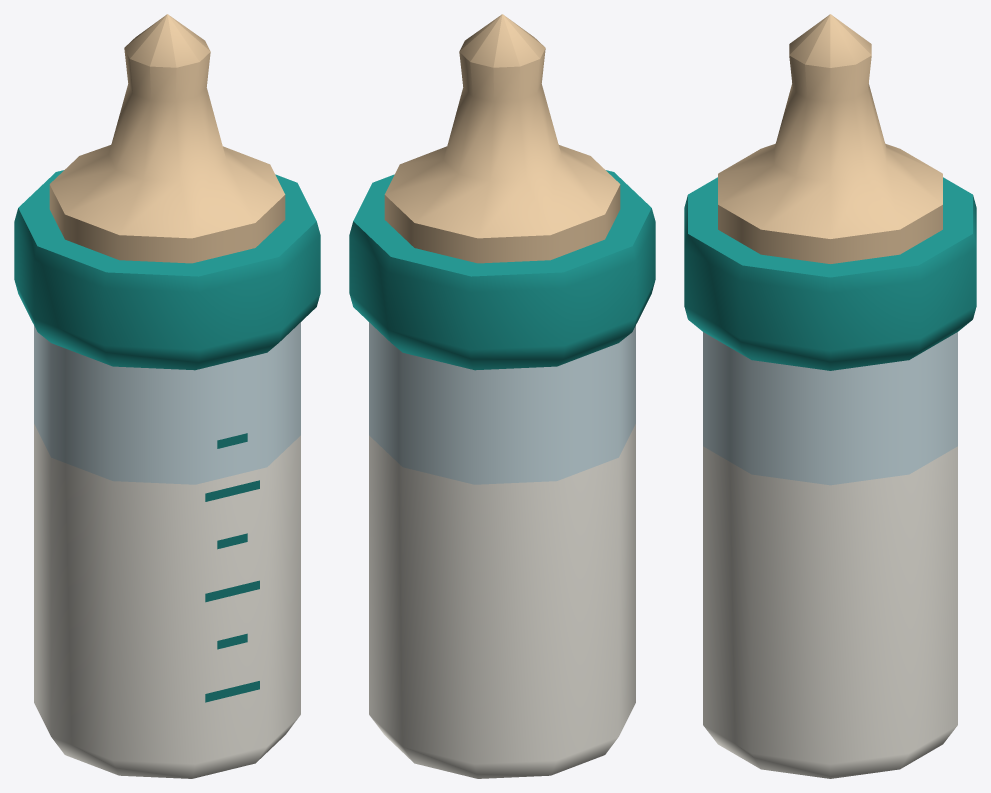
File: Biberon.fbx
The picture shows the model from 3 angles, left to right: view 1: azimuth 30°, elevation 25°; view 2: azimuth 150°, elevation 25°; view 3: azimuth 270°, elevation 25°; orthographic projection.
Visible parts, largest first — view 1: Biberon; view 2: Biberon; view 3: Biberon.
Boxes of the visible parts, x1,y1,x2,y2 form: Biberon: (14, 14, 320, 778); Biberon: (349, 14, 655, 778); Biberon: (684, 14, 976, 778).
Size of the model in its own units: 0.39 by 1 by 0.3709.
Materials: 1 (1 with a texture image).
